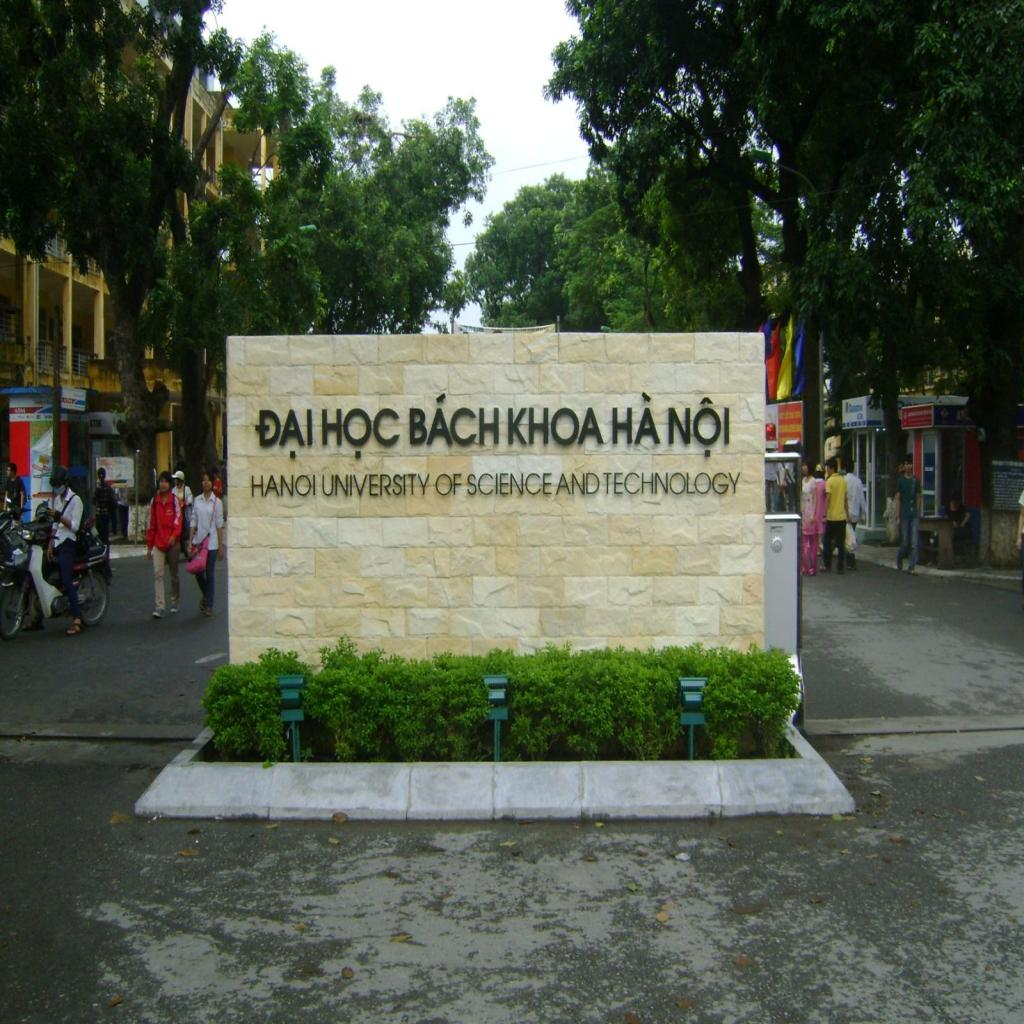text: (408, 392, 502, 450), (320, 404, 404, 462), (666, 396, 734, 460), (506, 405, 606, 447), (252, 406, 316, 463), (602, 471, 742, 496), (321, 472, 432, 498), (610, 391, 662, 446), (466, 471, 555, 498), (250, 471, 318, 499), (554, 471, 601, 497), (434, 473, 463, 498), (89, 419, 103, 430), (14, 407, 28, 415), (956, 412, 967, 422), (63, 397, 75, 405), (857, 413, 864, 420)
